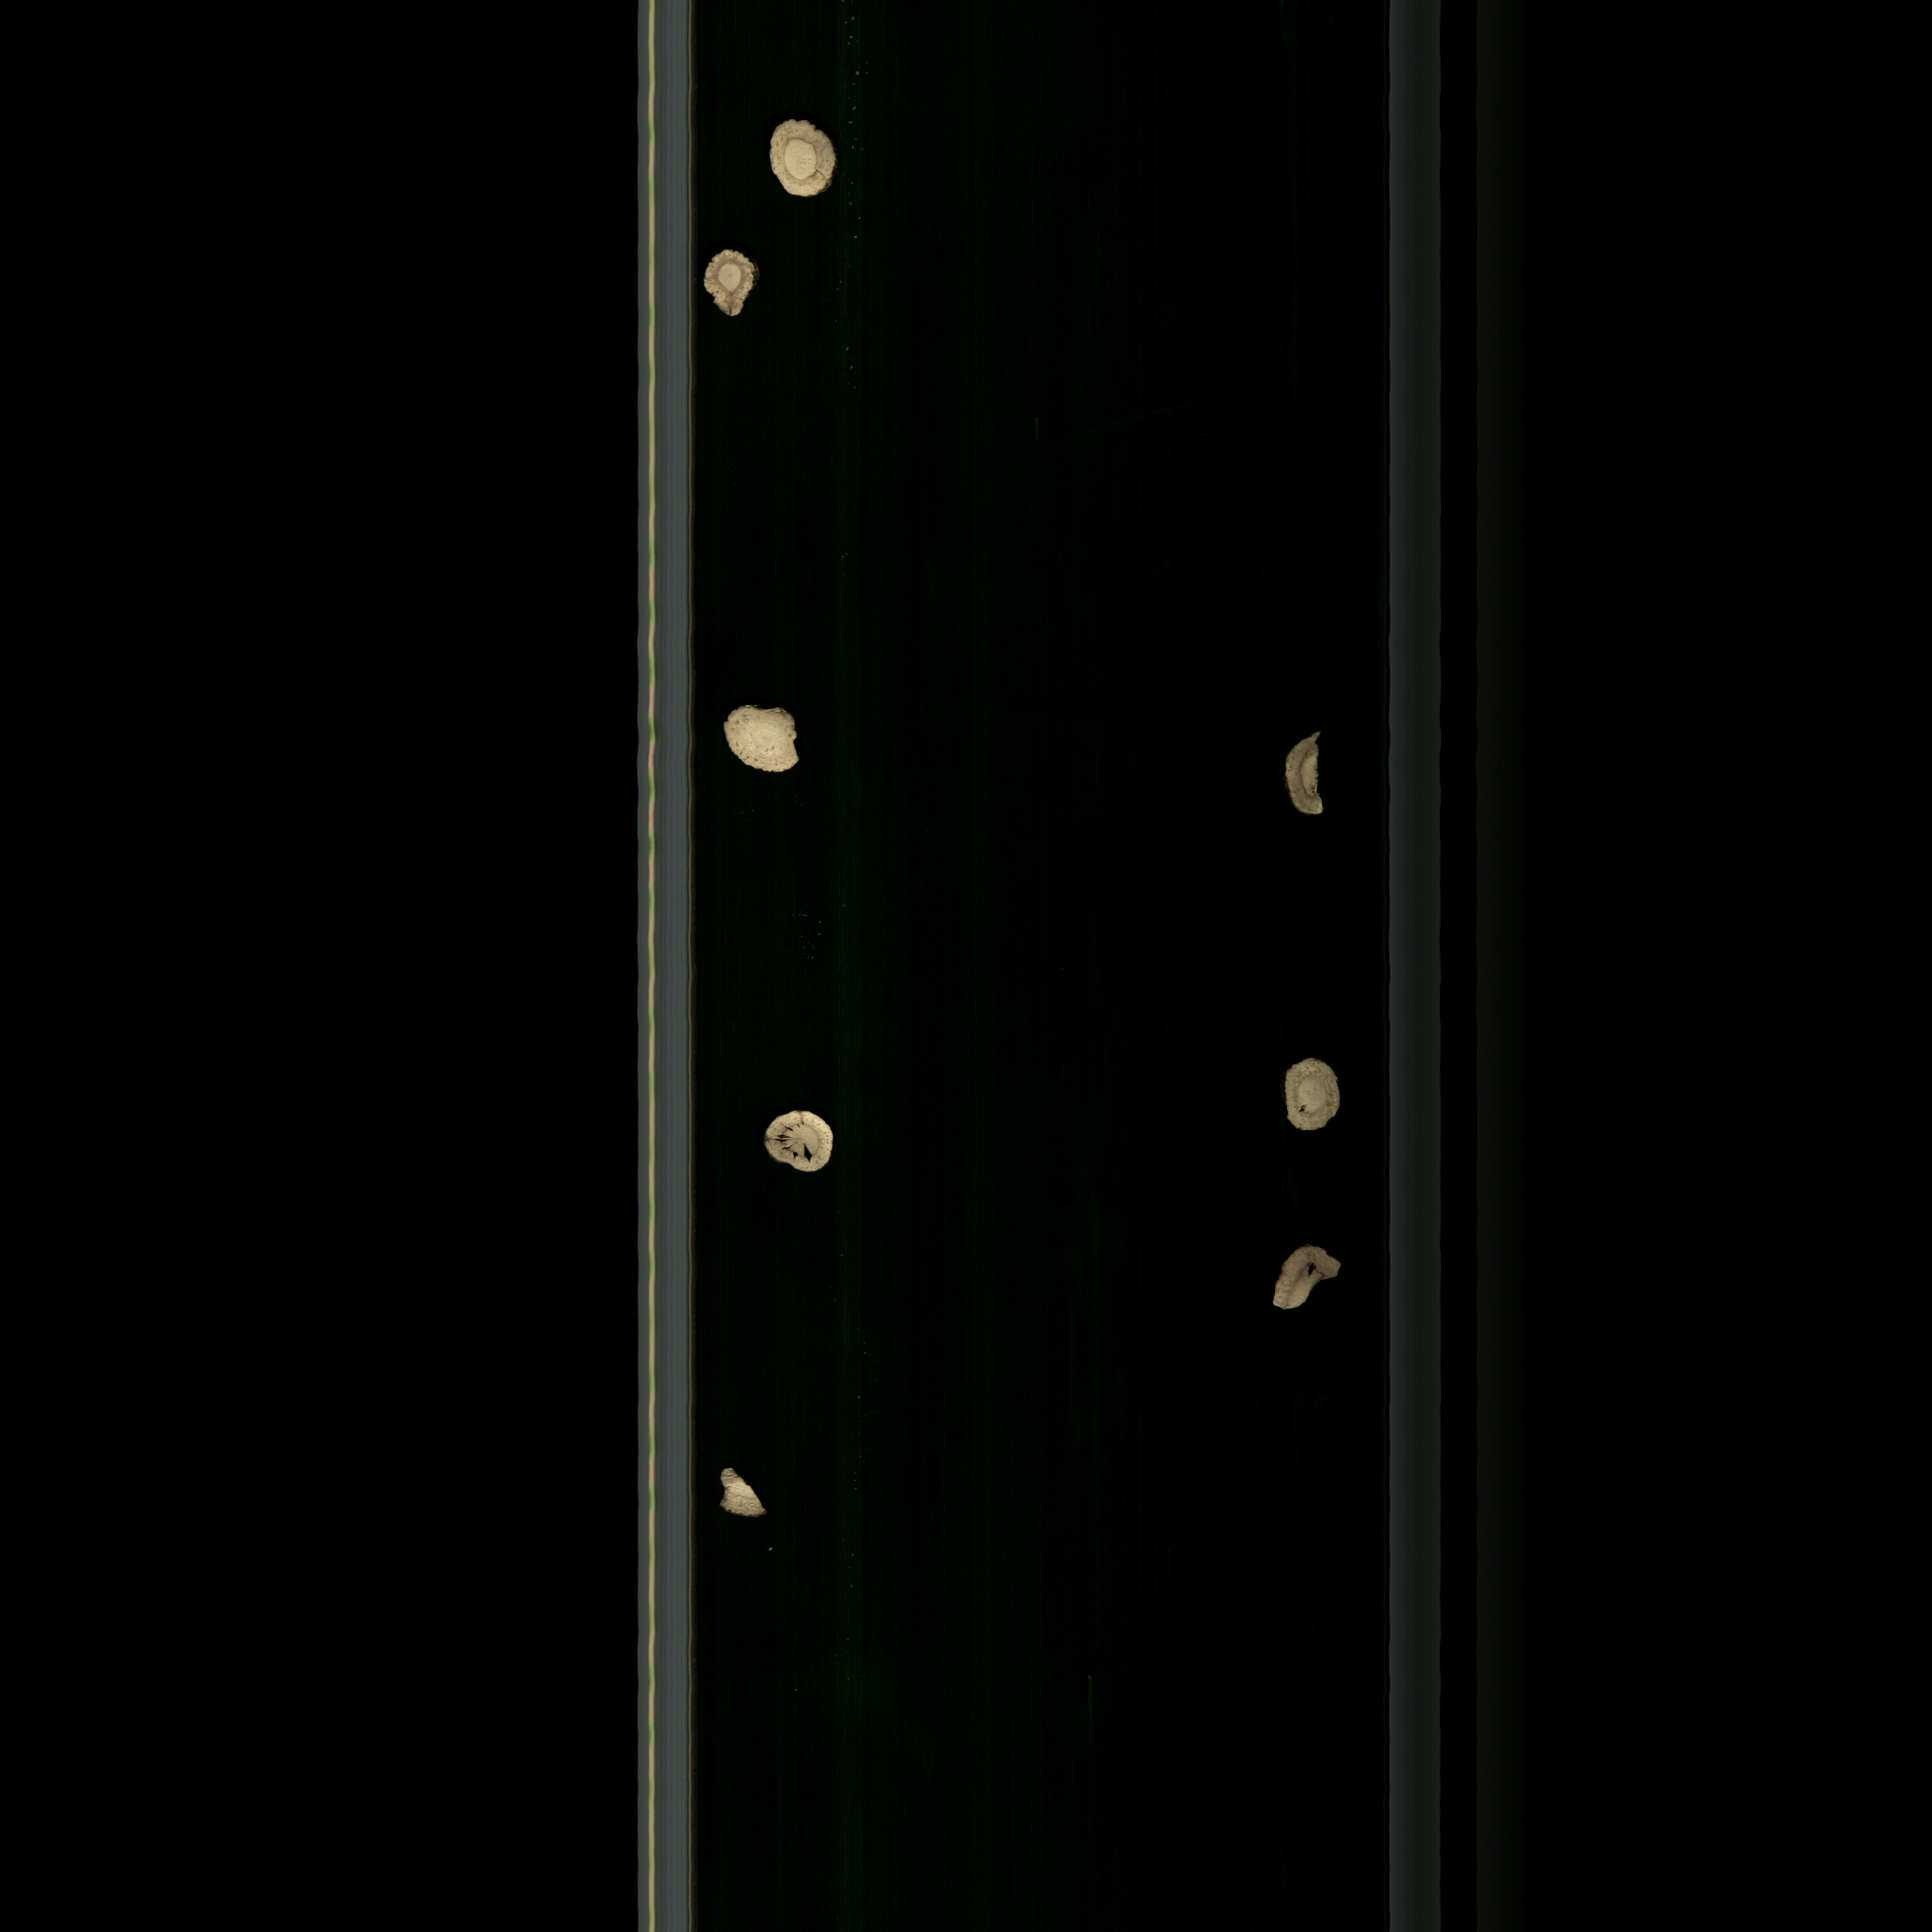debris: (715, 702, 812, 789), (1261, 1237, 1355, 1320)
dreg: (715, 1458, 770, 1527)
hole: (743, 1104, 855, 1187), (1279, 1053, 1353, 1145)
moldy: (1261, 722, 1341, 828), (759, 115, 844, 209), (695, 241, 759, 329)
